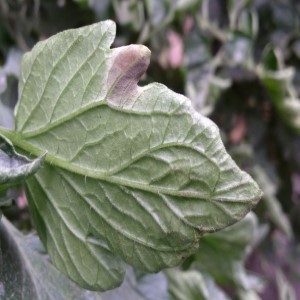cladosporium: (108, 44, 152, 103)
